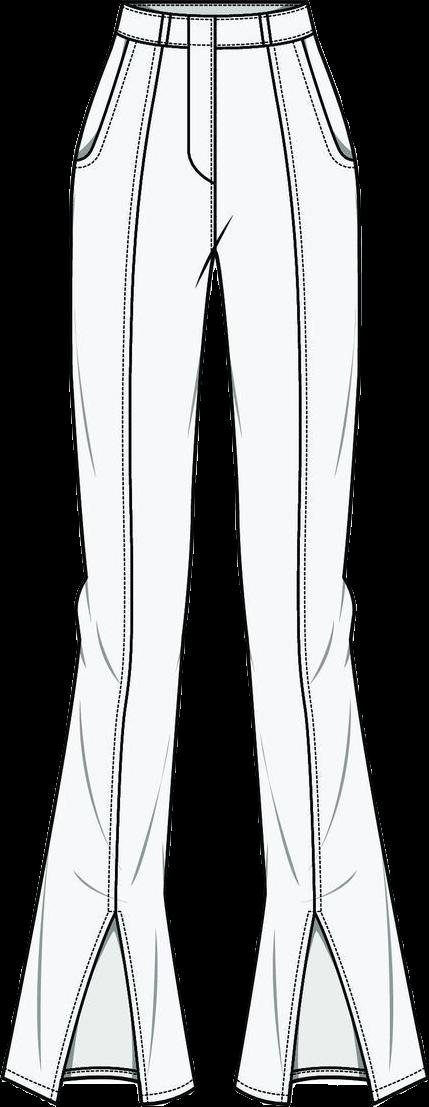Hemline: (228, 900, 427, 1106), (0, 905, 194, 1105)
Pantleg: (212, 2, 426, 1106), (0, 3, 214, 1105)
Waistline: (110, 28, 321, 62), (114, 0, 310, 27)
